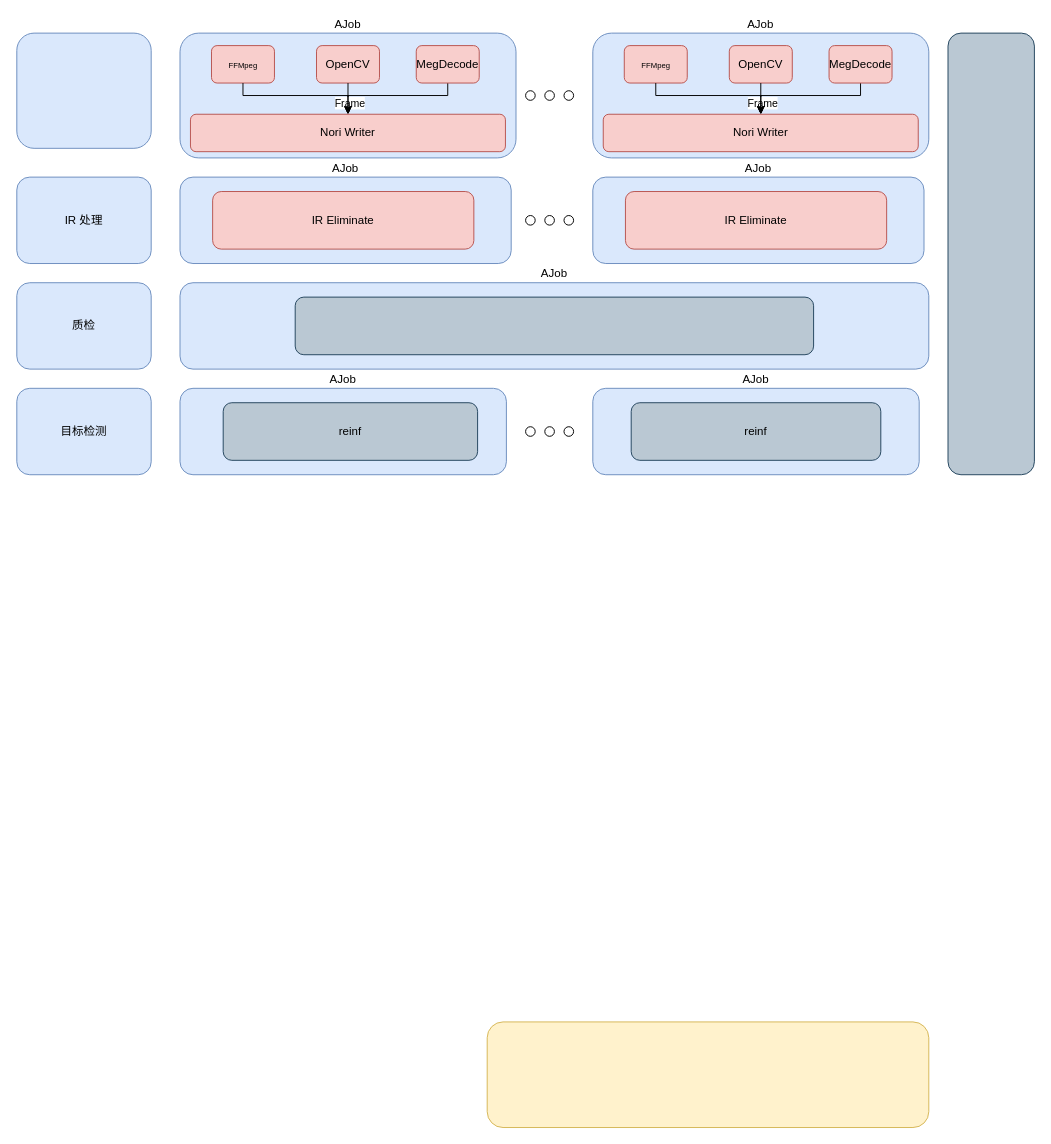
This 1051x1144 diagram has some shape labels left out. The shapes that lost their labels are listed below. From the top down, each one's box as (x1, y1, x2, y2) in pixels, then its label:
(16, 32, 151, 148): 抽帧
(947, 32, 1034, 475): Fluentbit
(294, 296, 814, 355): DataMaster
(486, 1021, 929, 1128): ClickHouse
